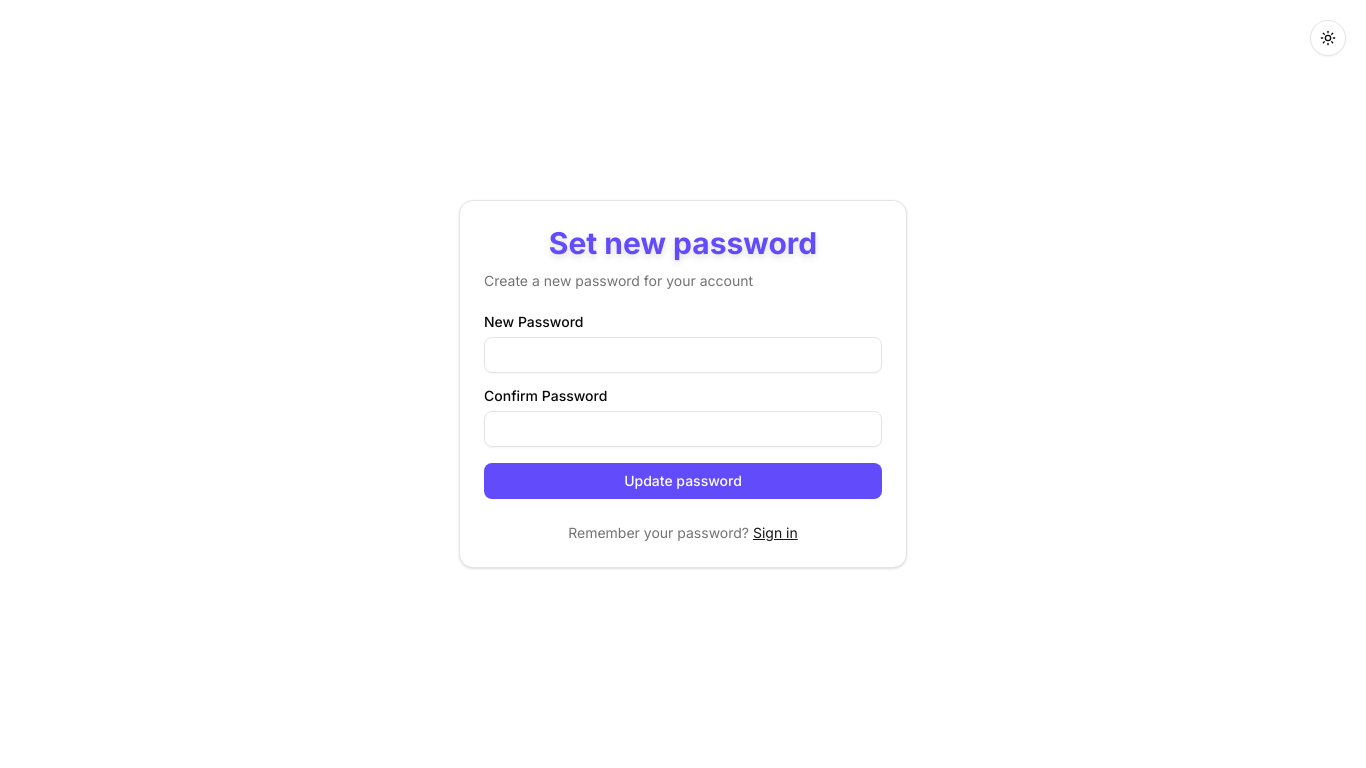
SetPasswordPage › disables the submit button during form submission
Type "password123" into the password field labelled "New Password" at (683, 355), box x1=484 y1=337 x2=882 y2=373
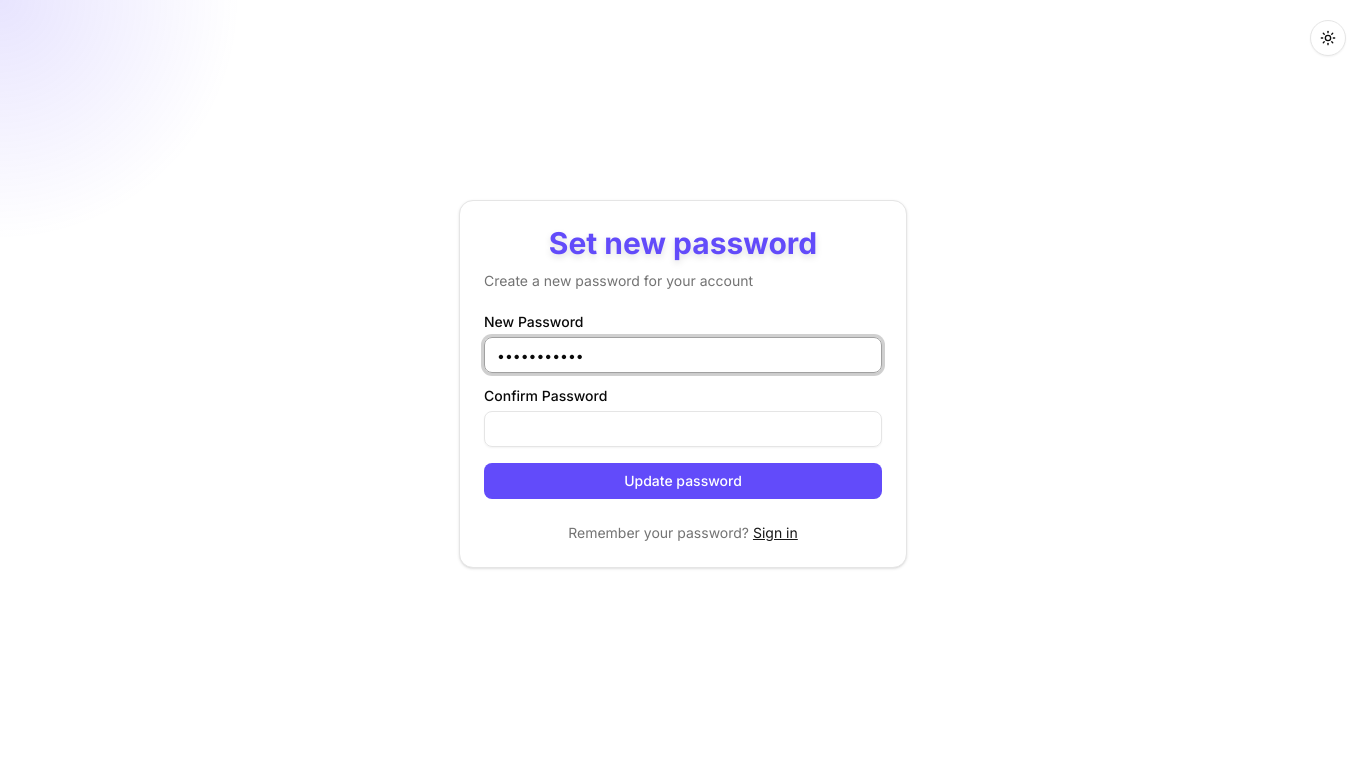
Type "password123" into the password field labelled "Confirm Password" at (683, 429), box x1=484 y1=411 x2=882 y2=447
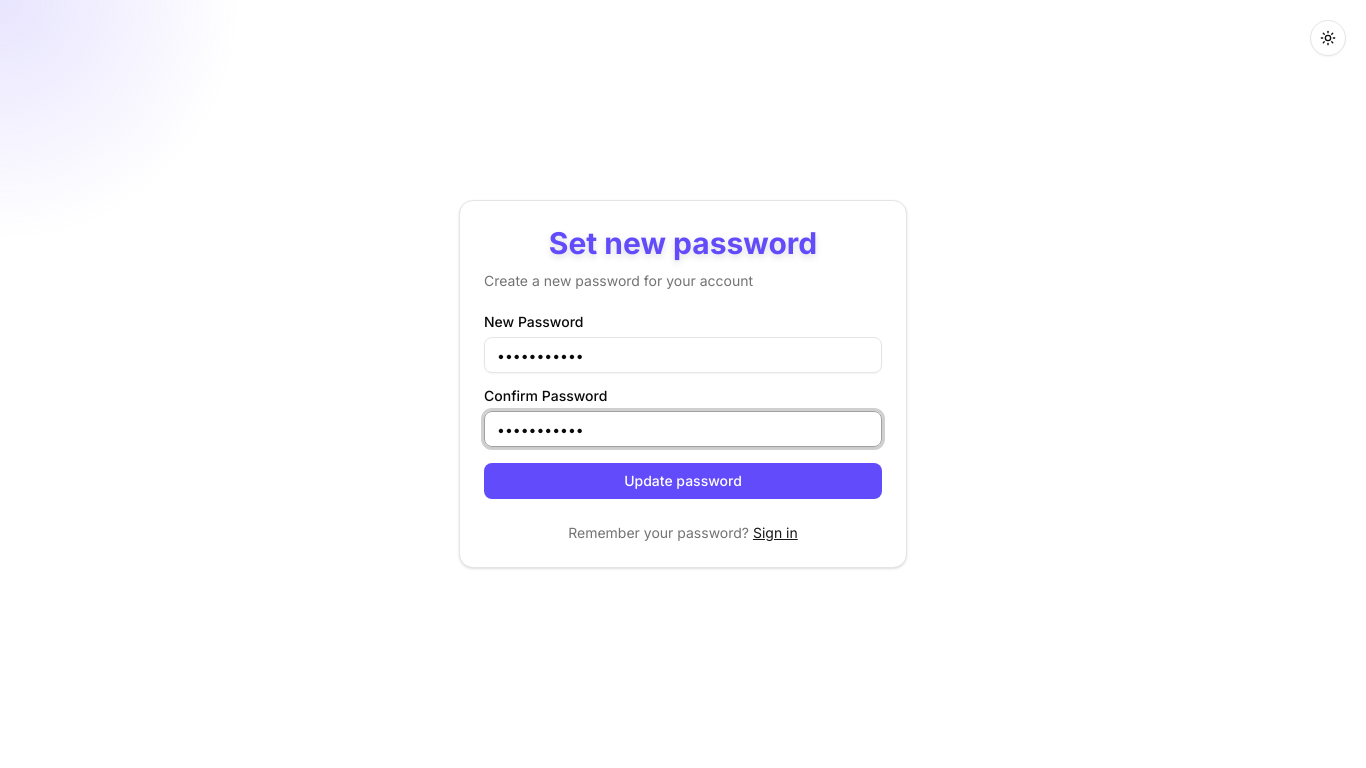
Note: Click the submit button and immediately check that it's disabled.
Click the button "Update password" at (683, 481), box x1=484 y1=463 x2=882 y2=499
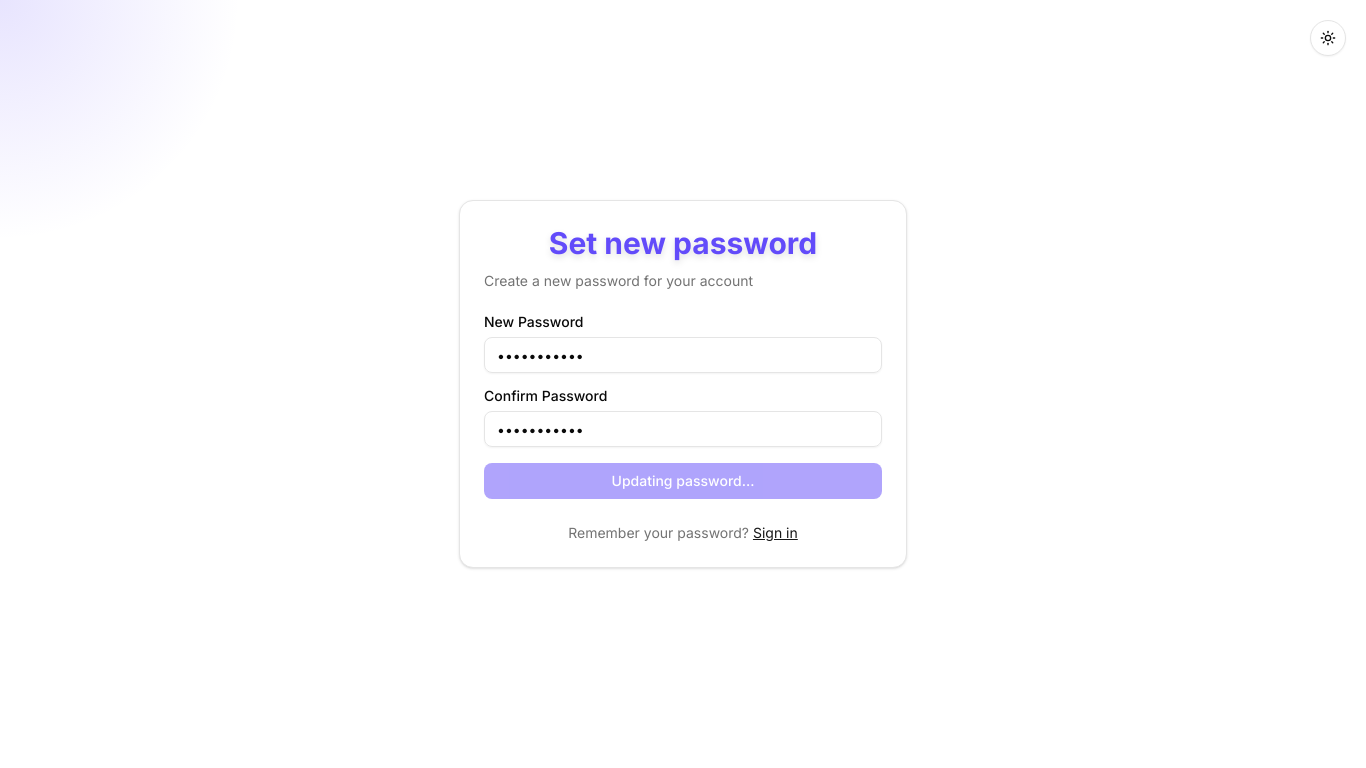
Check: the button named "update password" is disabled, box x1=484 y1=463 x2=882 y2=499
